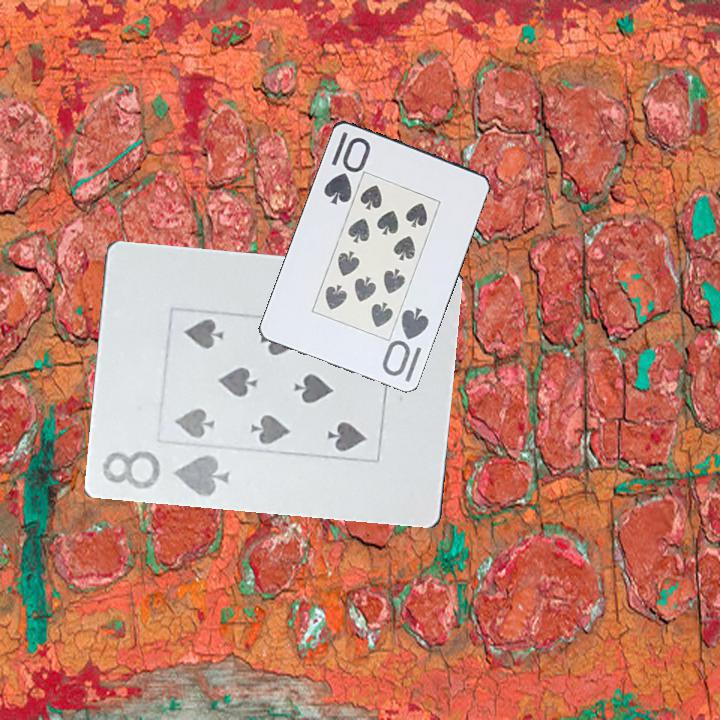8s: (99, 447, 232, 499)
Ts: (379, 303, 432, 385), (320, 127, 372, 207)
